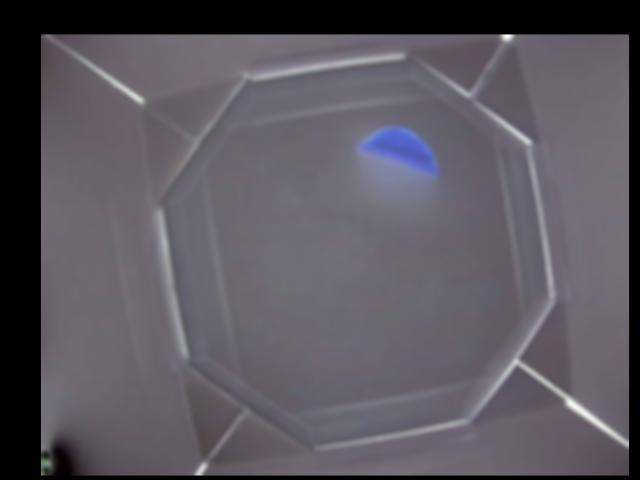Potato: (357, 126, 437, 175)
